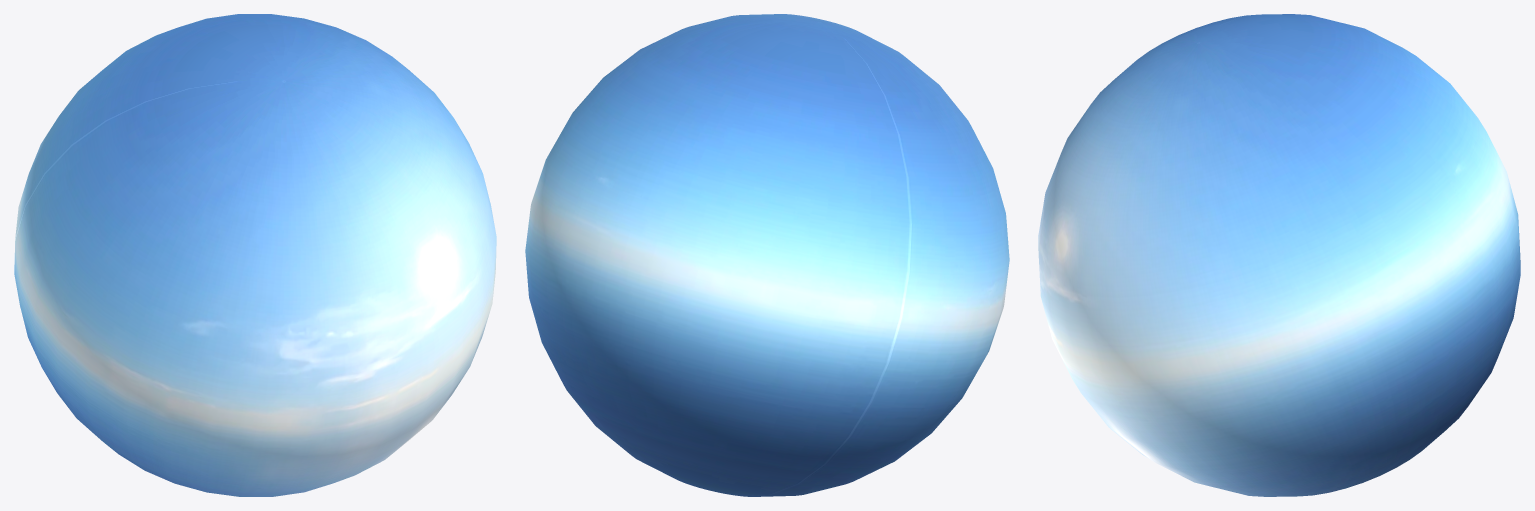
Rendered from matin.gltf.
The picture shows the model from 3 angles, left to right: view 1: azimuth 30°, elevation 25°; view 2: azimuth 150°, elevation 25°; view 3: azimuth 270°, elevation 25°; orthographic projection.
Visible parts, largest first — view 1: matin; view 2: matin; view 3: matin.
Part boxes in pixels (x1=…): matin: x1=14, y1=14, x2=496, y2=496; matin: x1=525, y1=14, x2=1009, y2=496; matin: x1=1038, y1=14, x2=1520, y2=496.
Size of the model in its own units: 442 by 444 by 442.
Materials: 1 (1 with a texture image).
